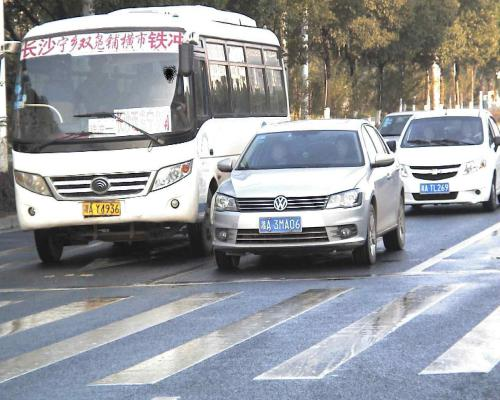Carplate: (80, 196, 125, 220), (256, 214, 305, 236), (418, 179, 452, 197)
